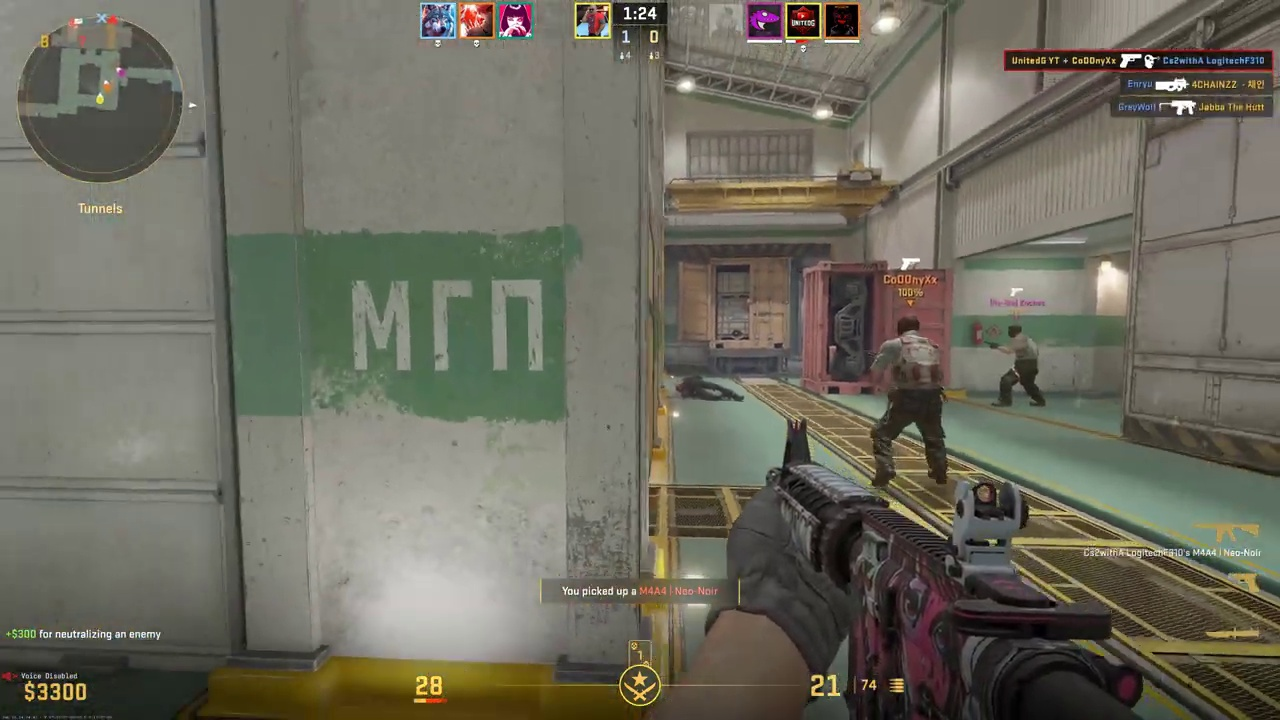Terrorist: (874, 319, 950, 490), (994, 318, 1049, 409)
